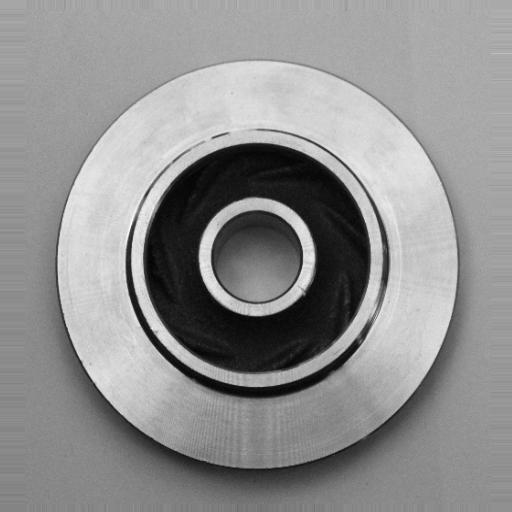scratch: (356, 261, 401, 363), (285, 251, 324, 312)
unpolished_casting: (55, 56, 468, 474)
